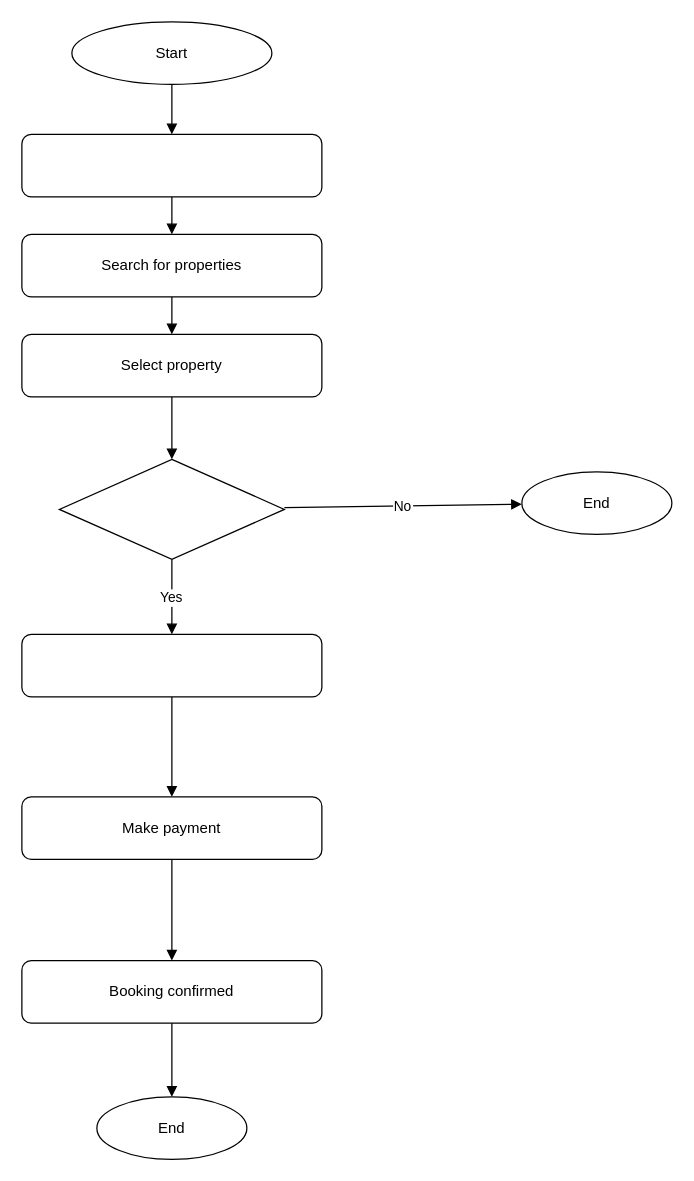
This 694x1181 diagram has some shape labels left out. Here are the shapes that lost their labels. From the top down, the centre of each, then its label:
[171,165]: User logs in
[171,508]: Are dates available?
[171,665]: Enter booking details
